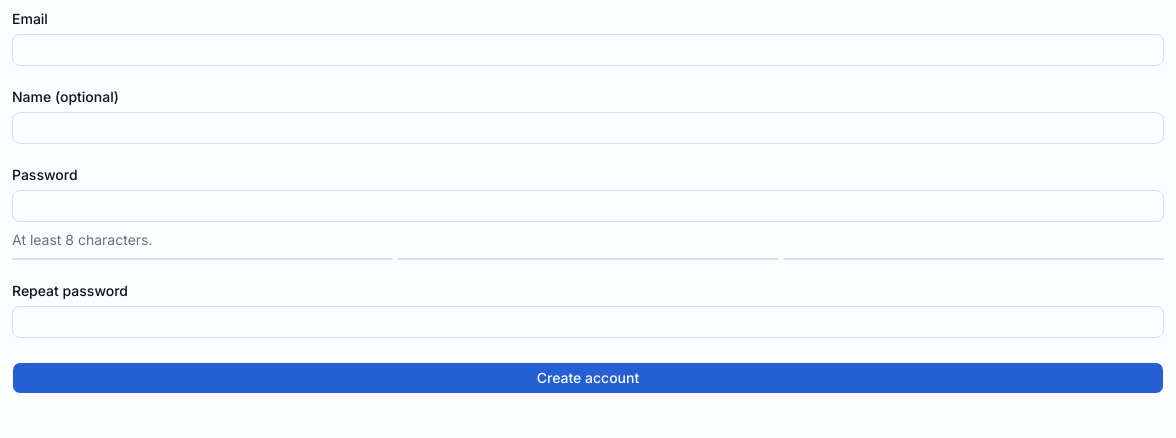
Test: RegisterForm › rates the password while it is being typed
The image size is (1176, 438).
Step 1. Type "marmalade" into the password field labelled "Password" → (588, 206), box [12,190,1164,222]
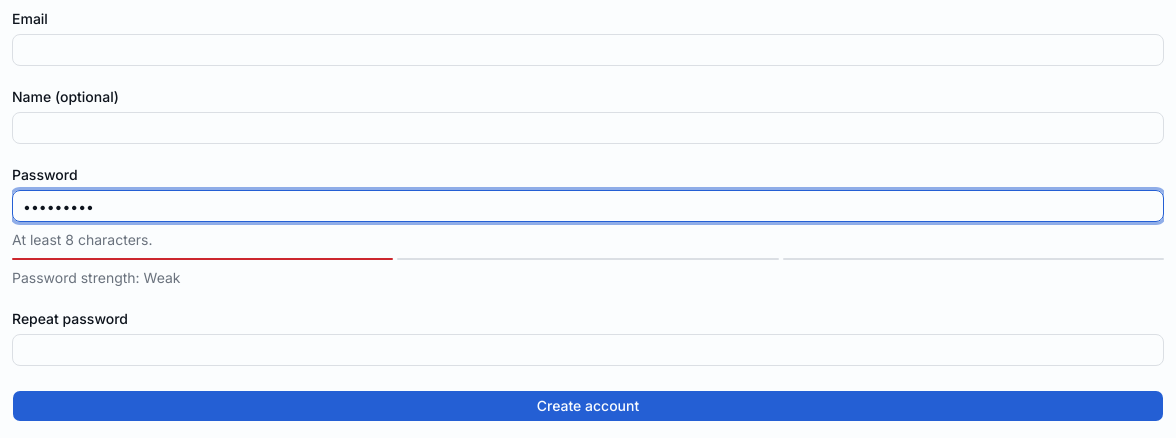
Check: the text "Password strength: Weak" is shown, box [12,269,180,286]
Step 2. Type "4Toast" into the password field labelled "Password" → (588, 206), box [12,190,1164,222]
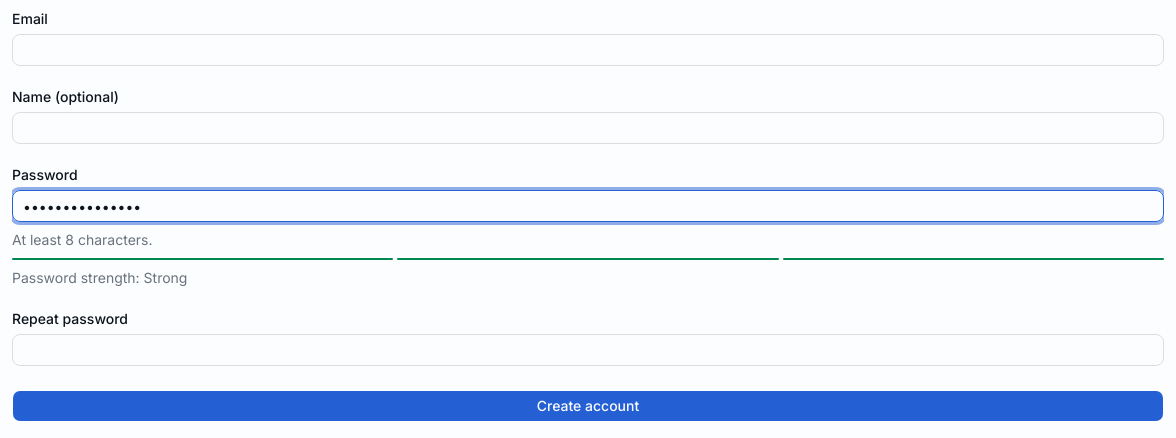
Check: the text "Password strength: Strong" is shown, box [12,269,187,286]
